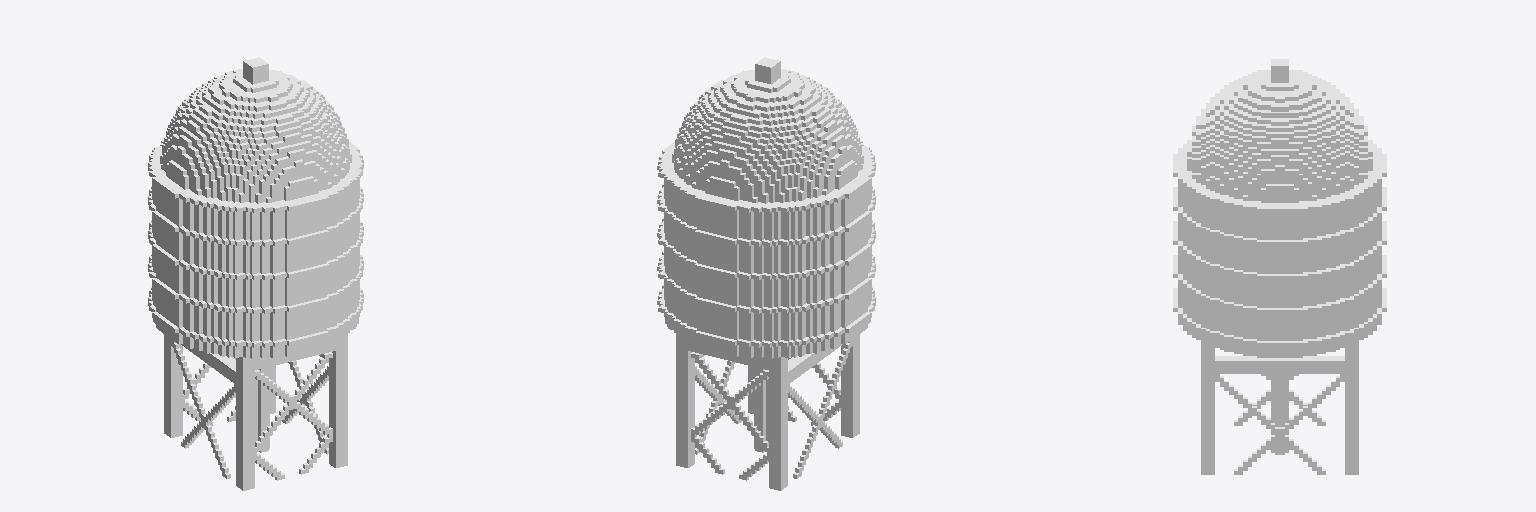
File: water_dirty.obj
3 views of the same model, side by side, from view 1: azimuth 30°, elevation 25°; view 2: azimuth 150°, elevation 25°; view 3: azimuth 270°, elevation 25° (orthographic).
Visible parts, largest first — view 1: object 1; view 2: object 1; view 3: object 1.
Boxes of the visible parts, box(x1,y1,x2,y2) form: object 1: box(148, 57, 363, 490); object 1: box(657, 57, 875, 490); object 1: box(1173, 59, 1386, 474).
Bounding box in the file's own units: 4.6 × 9.2 × 4.6.